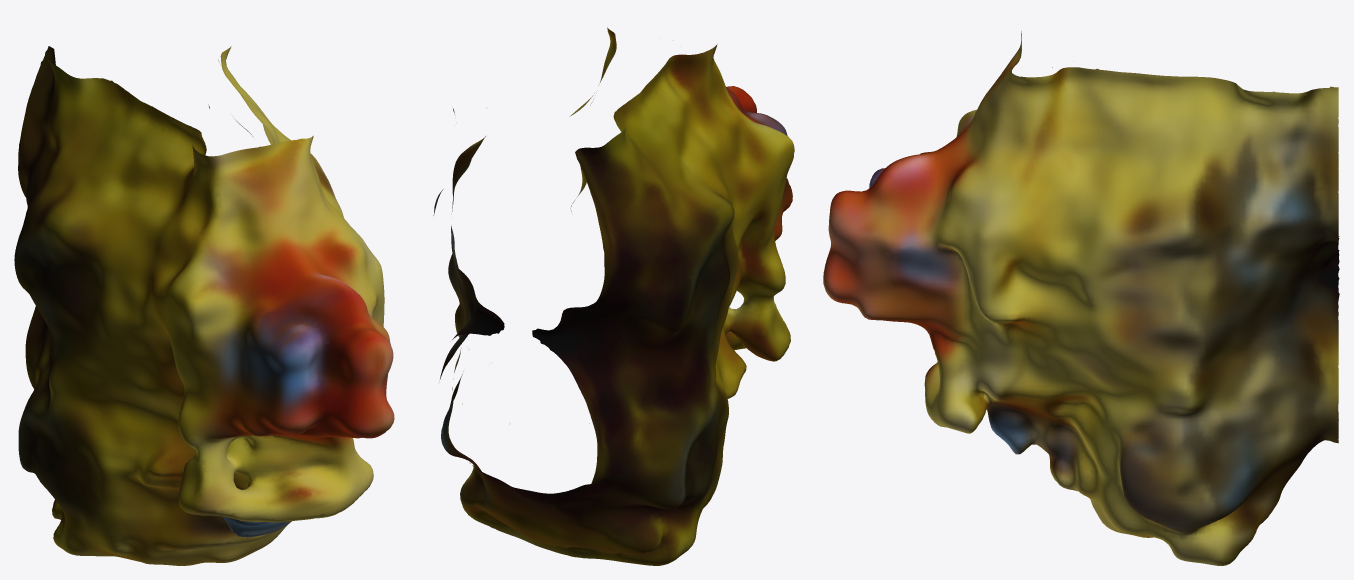
File: school_bus2.glb
The picture shows the model from 3 angles, left to right: view 1: azimuth 30°, elevation 25°; view 2: azimuth 150°, elevation 25°; view 3: azimuth 270°, elevation 25°; orthographic projection. The views are drawn at different scales.
Size of the model in its own units: 0.6081 by 0.9998 by 0.9722.
